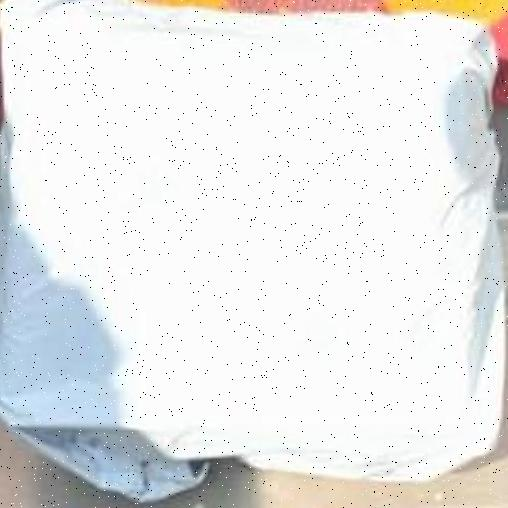Other: (0, 0, 491, 491)
